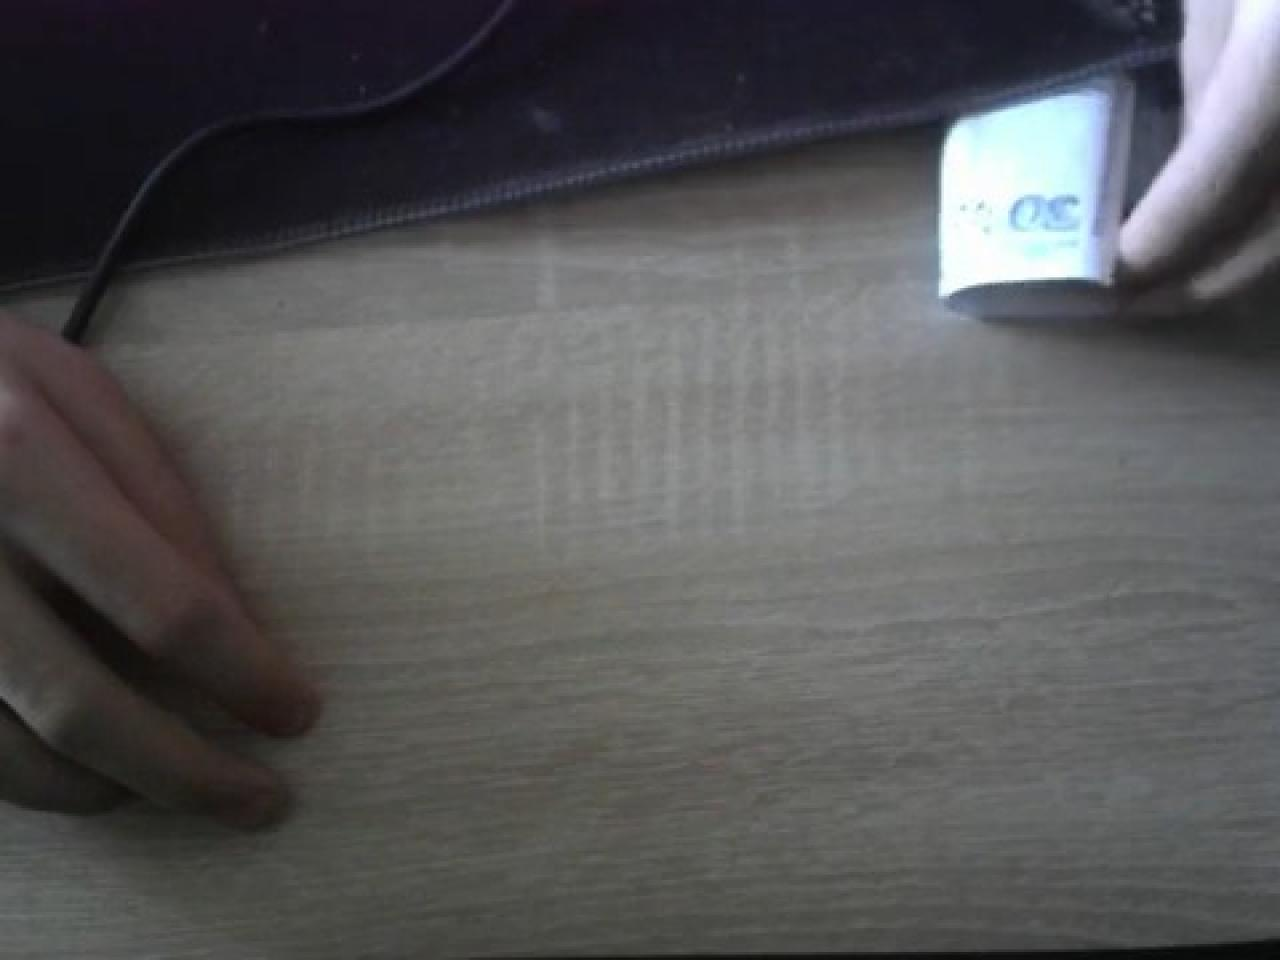20leva: (936, 0, 1280, 328)
